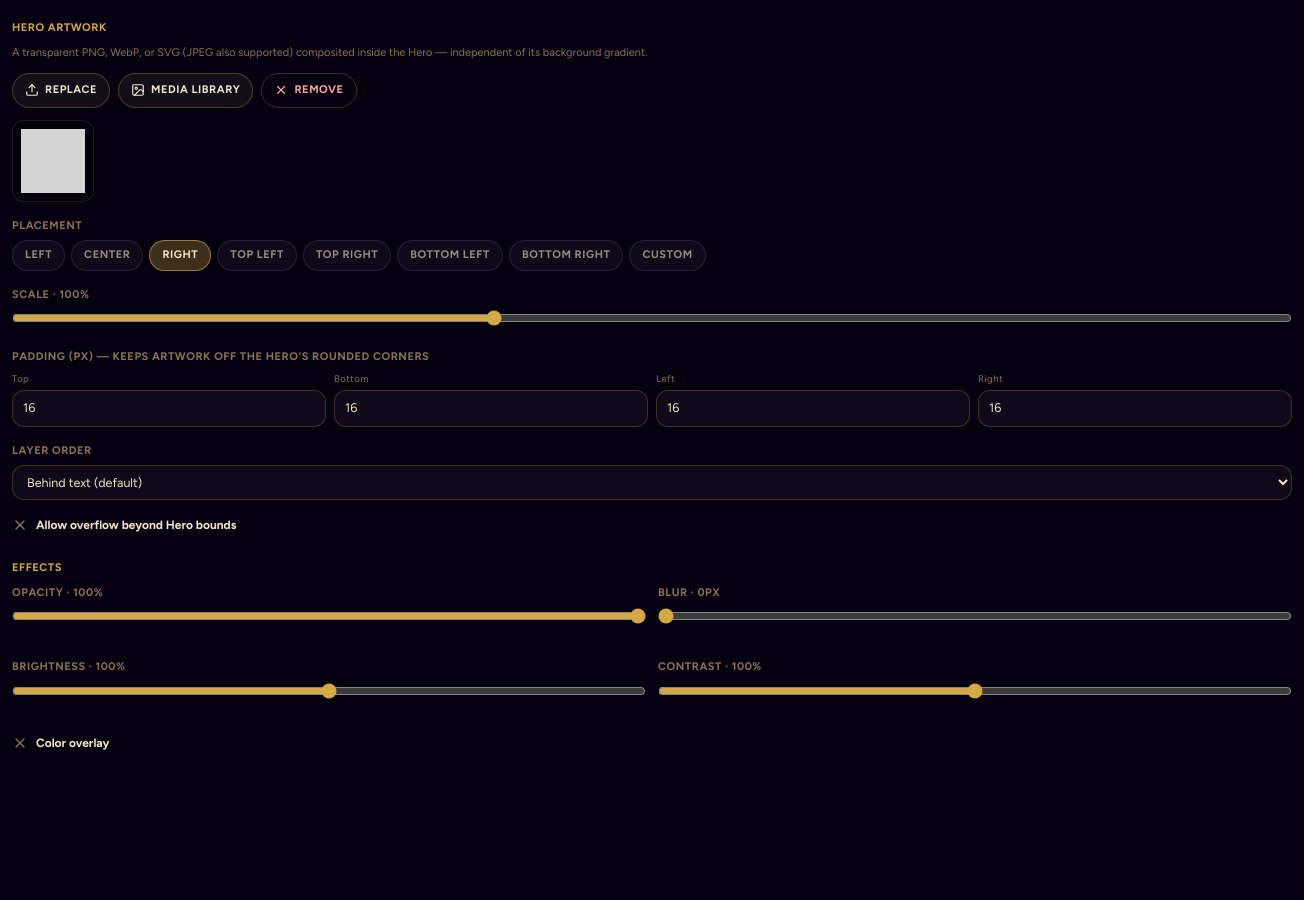
Scenario: Effects section (Promotion Experience Studio) › overlay toggle reveals color + opacity controls only once enabled
This screenshot has width=1304, height=900.
What coordinates should you click on to do the following:
click the button with test id "hero-artwork-overlay-toggle"
I would click on:
 (61, 742)
Its box is [12,734,110,752].
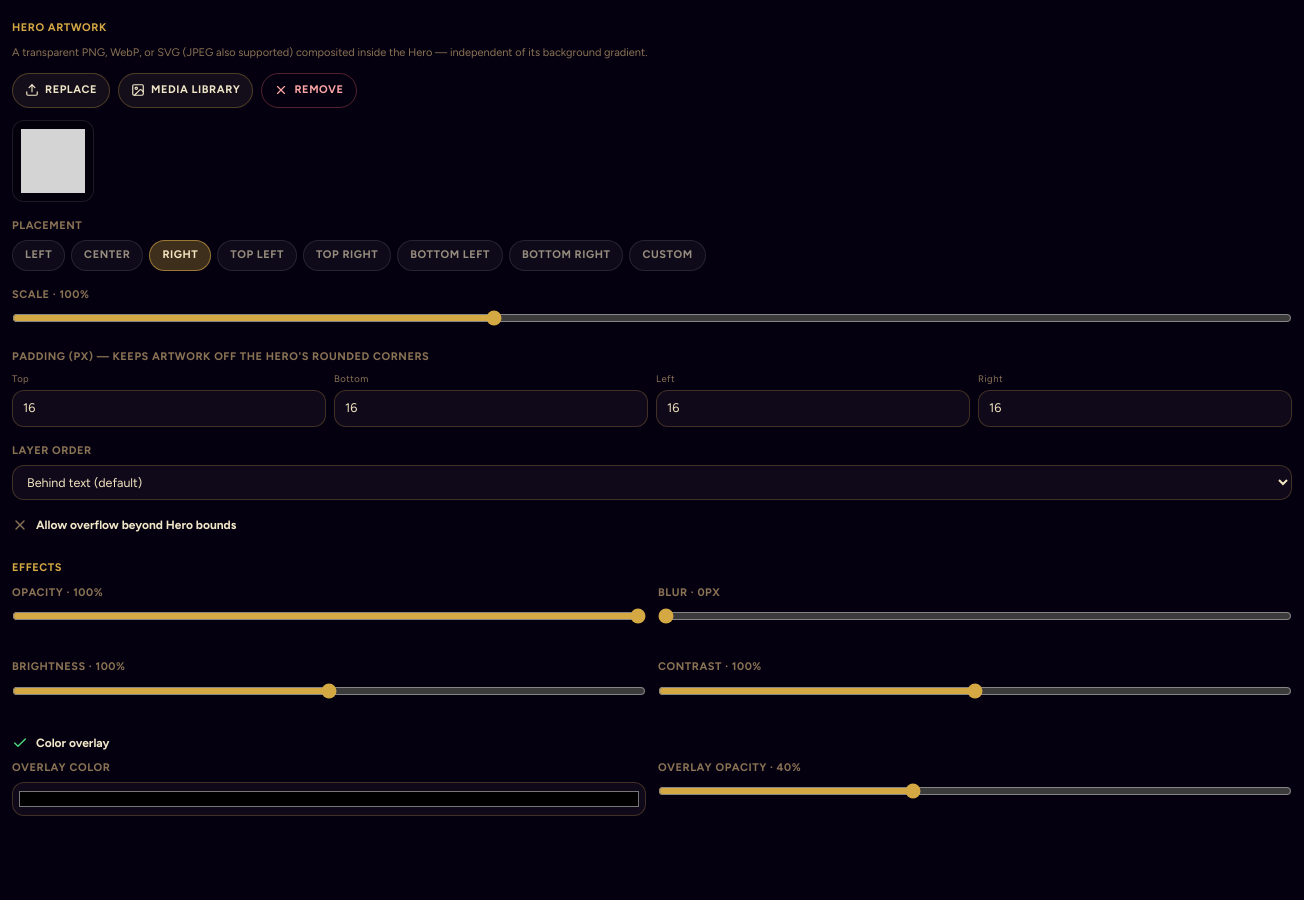
Check: the colour field with test id "hero-artwork-overlay-color" is shown, box [12,782,646,816]
Check: the slider with test id "hero-artwork-overlay-opacity" is shown, box [658,783,1292,799]
